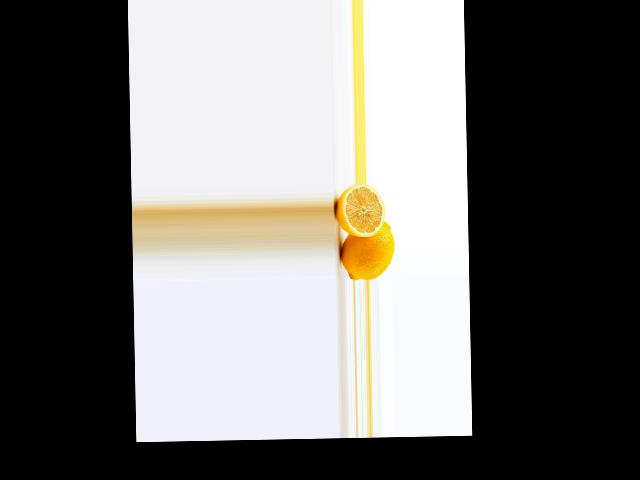lemon: (336, 219, 396, 279)
